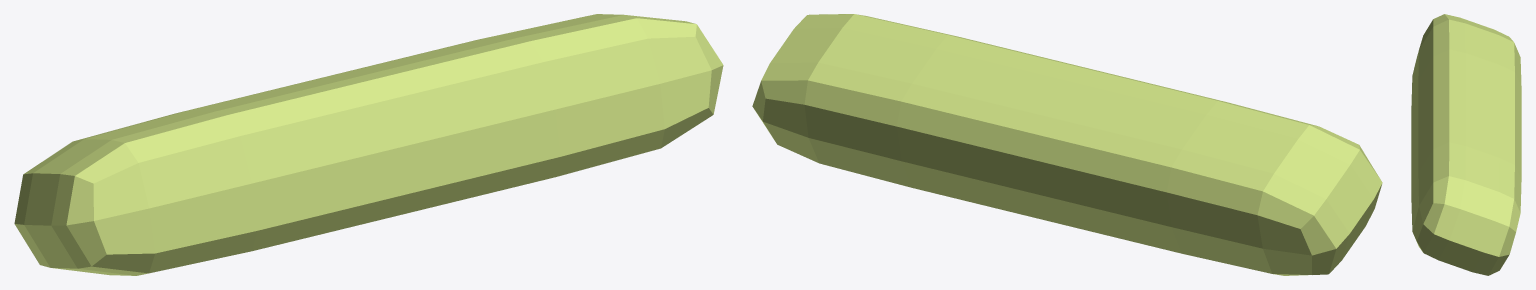
The model's file is Guling 2.fbx.
3 views of the same model, side by side, from view 1: azimuth 30°, elevation 25°; view 2: azimuth 150°, elevation 25°; view 3: azimuth 270°, elevation 25° (orthographic). The views are drawn at different scales.
Visible parts, largest first — view 1: Cube.003; view 2: Cube.003; view 3: Cube.003.
Part boxes in pixels (x1,y1,x2,y2): Cube.003: [14, 14, 723, 275]; Cube.003: [752, 14, 1382, 275]; Cube.003: [1411, 14, 1521, 275].
Size of the model in its own units: 79.03 by 17.58 by 18.15.
